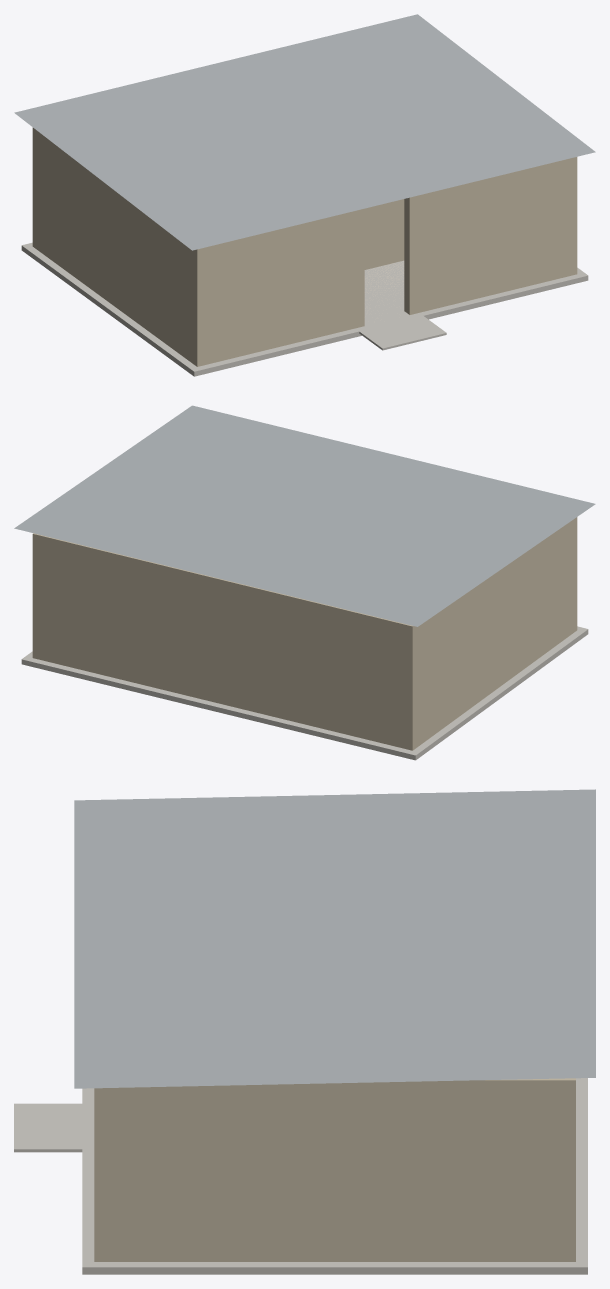
The model's file is mushroom-cultivation.lod1.glb.
3 renders of one model, top to bottom at view 1: azimuth 30°, elevation 25°; view 2: azimuth 150°, elevation 25°; view 3: azimuth 270°, elevation 25°, orthographic. The views are drawn at different scales.
Bounding box in the file's own units: 8.5 × 2.75 × 7.25.
